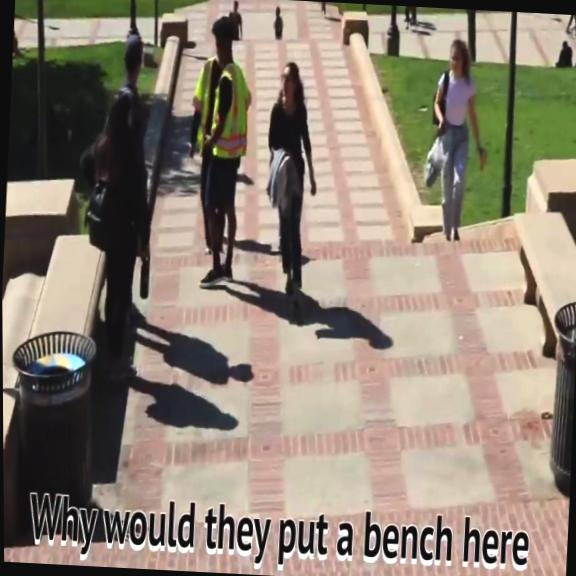safety_vest: (210, 62, 253, 162), (189, 54, 215, 154)
